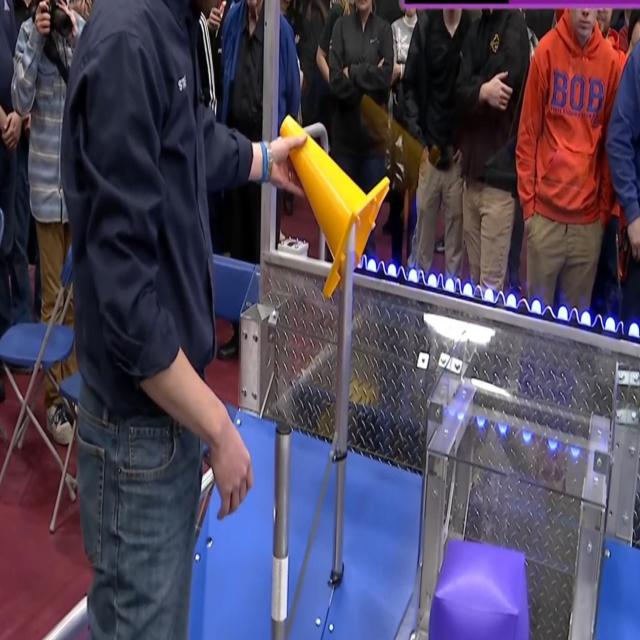frc_cone: (282, 115, 390, 299)
frc_cube: (428, 541, 526, 640)
